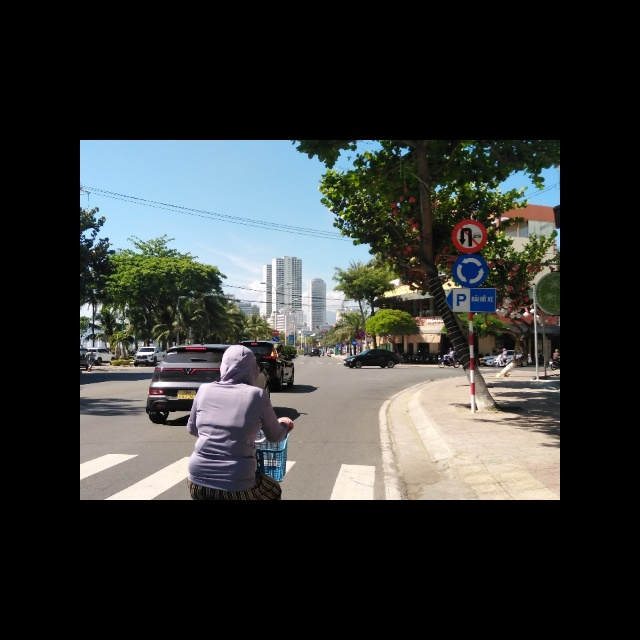Cấm xe ô tô quay đầu: (452, 218, 488, 254)
Nơi giao nhau chạy theo vòng xuyến: (451, 255, 487, 286)
Nơi đỗ xe: (444, 289, 497, 313)
